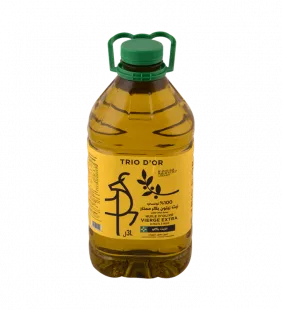TRIO D'OR: (76, 21, 204, 284)
